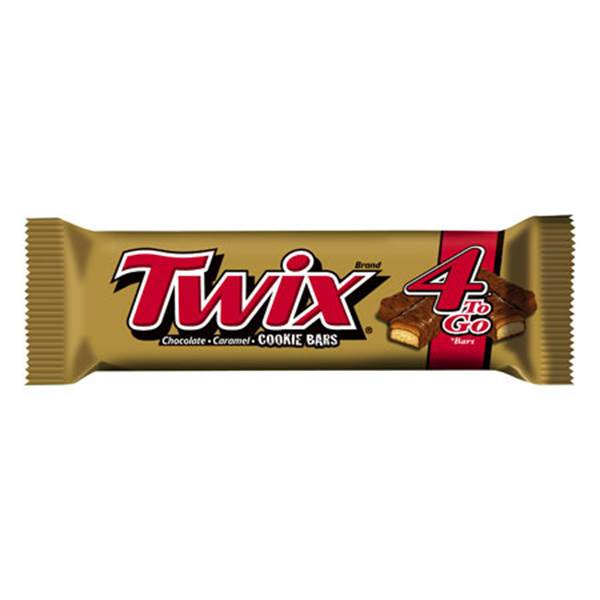twix: (21, 212, 579, 391)
